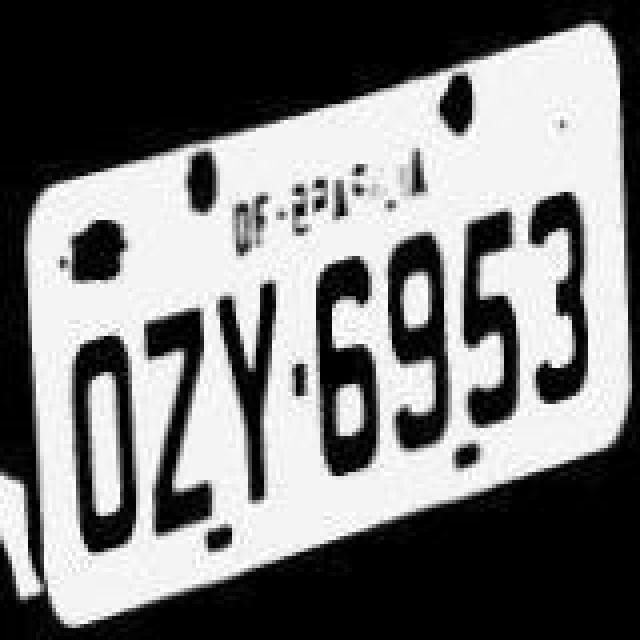3: (520, 170, 600, 430)
5: (446, 180, 530, 448)
6: (298, 244, 378, 524)
9: (380, 194, 452, 466)
O: (54, 300, 142, 580)
Y: (210, 246, 282, 526)
Z: (132, 266, 216, 546)
